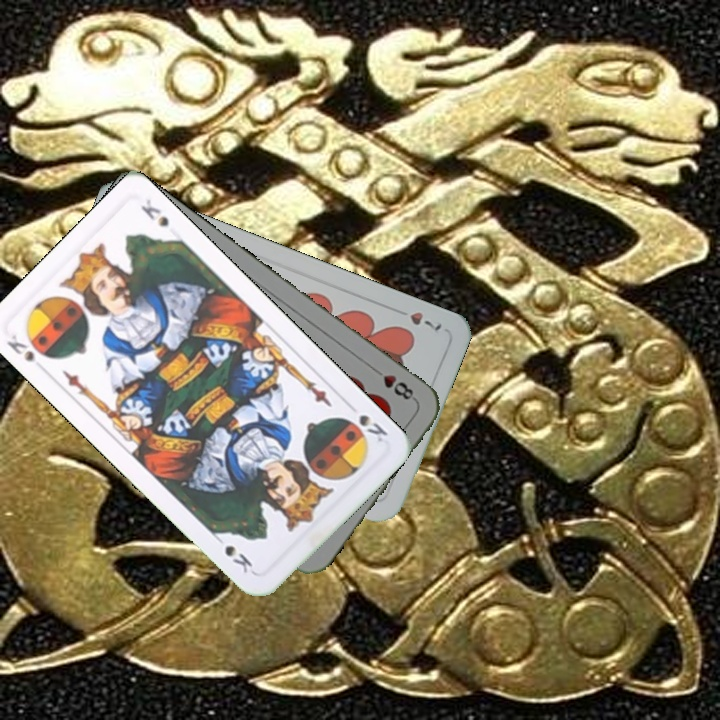H7: (406, 307, 445, 334)
H8: (368, 363, 419, 404)
SK: (2, 329, 54, 365), (355, 410, 391, 445)
